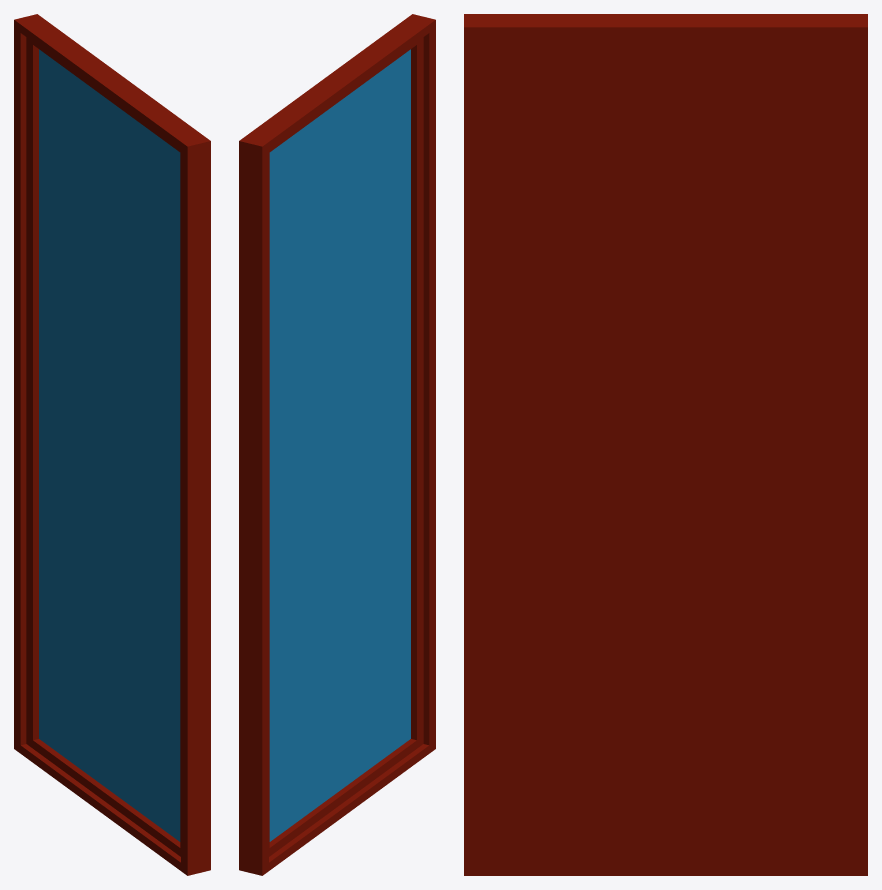
The model's file is Picture_03_Set.fbx.
3 renders of one model, left to right at view 1: azimuth 30°, elevation 25°; view 2: azimuth 150°, elevation 25°; view 3: azimuth 270°, elevation 25°, orthographic. The views are drawn at different scales.
Visible parts, largest first — view 1: Picture_03_Image, Picture_03_Frame; view 2: Picture_03_Image, Picture_03_Frame; view 3: Picture_03_Frame.
Boxes of the visible parts, x1,y1,x2,y2 form: Picture_03_Image: (39, 49, 180, 841); Picture_03_Frame: (14, 14, 210, 875); Picture_03_Image: (269, 49, 410, 841); Picture_03_Frame: (239, 14, 435, 875); Picture_03_Frame: (464, 14, 867, 875).
Size of the model in its own units: 10.08 by 301 by 130.
